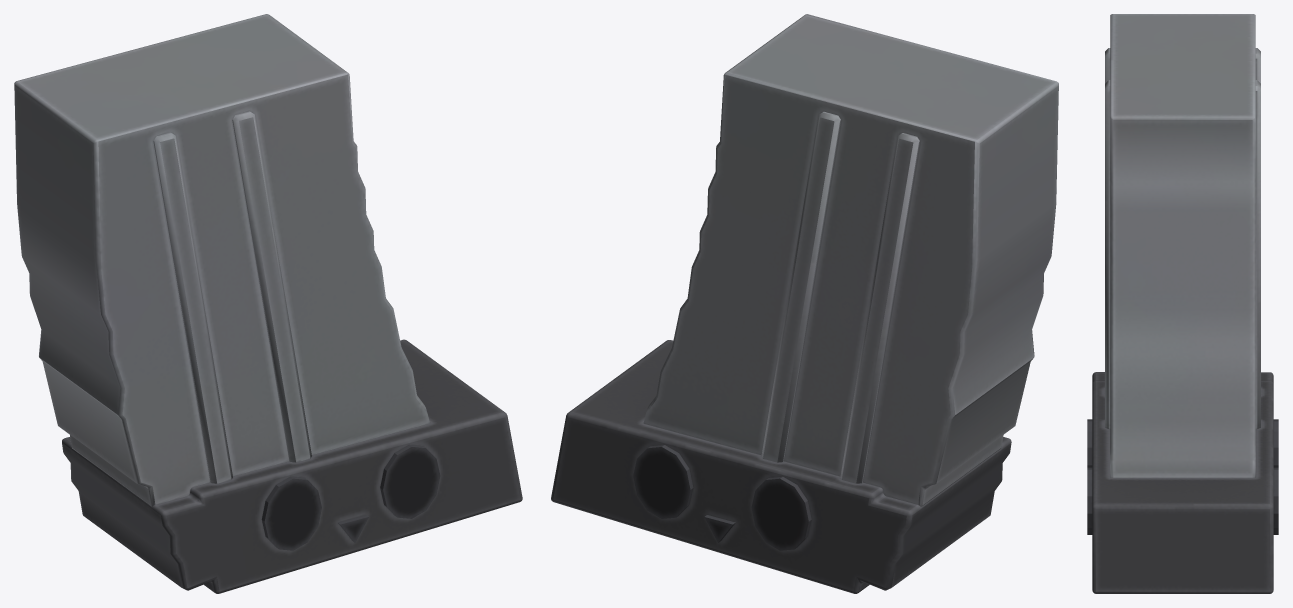
Rendered from AT_SkullMag.fbx.
3 views of the same model, side by side, from view 1: azimuth 30°, elevation 25°; view 2: azimuth 150°, elevation 25°; view 3: azimuth 270°, elevation 25° (orthographic). The views are drawn at different scales.
Parts seen in each view (by area): view 1: AT_SkullMag; view 2: AT_SkullMag; view 3: AT_SkullMag.
Part boxes in pixels (x1,y1,x2,y2): AT_SkullMag: (14, 14, 522, 593); AT_SkullMag: (551, 14, 1058, 593); AT_SkullMag: (1087, 14, 1278, 593).
Bounding box in the file's own units: 0.0588 × 0.0645 × 0.0264.
1 material, 1 textured.
